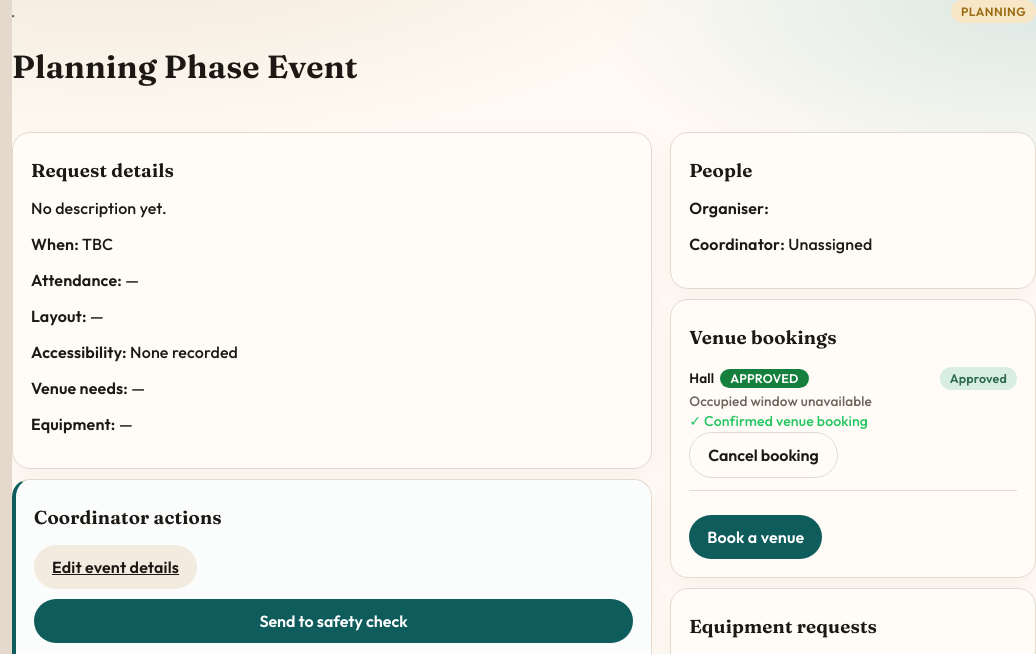
EventDetail SCRUM-17 & Base tests › SCRUM-19 AC7: Conflict modal vs standard errors in EventDetail › does not open ConflictModal when an action returns a non-conflict 409 error
The width and height of the screenshot is (1036, 654).
What coordinates should you click on to do the following:
click the button "Send to safety check"
I would click on:
 (334, 621)
Its box is [34,599,633,643].
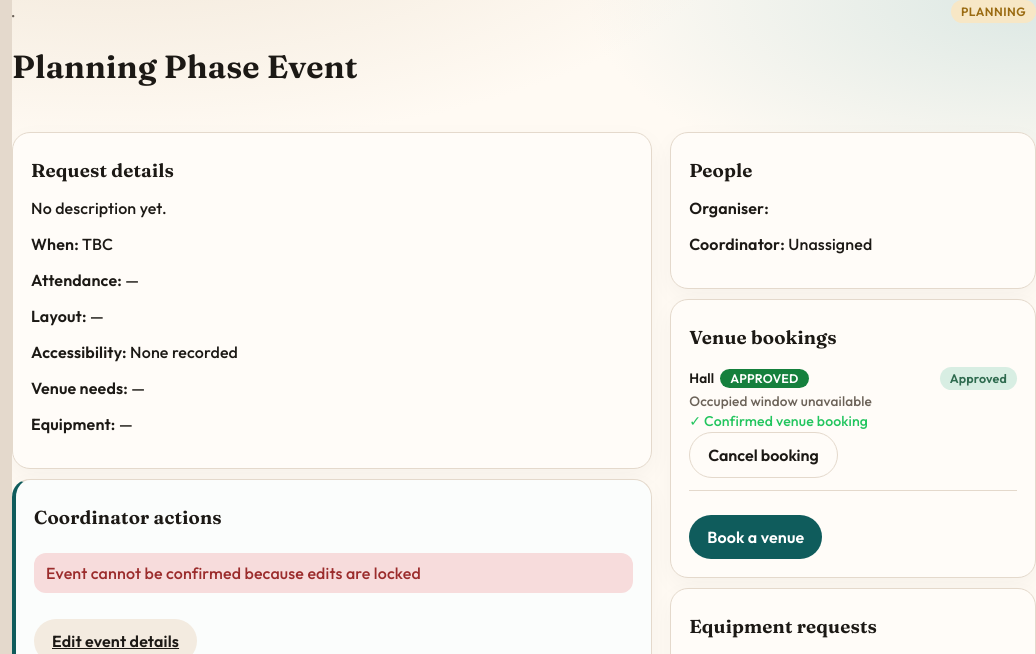
Expected: the text "Event cannot be confirmed because edits are locked" is shown, [34,553,633,593]
